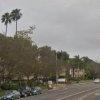Palm tree: (1, 6, 25, 34)
